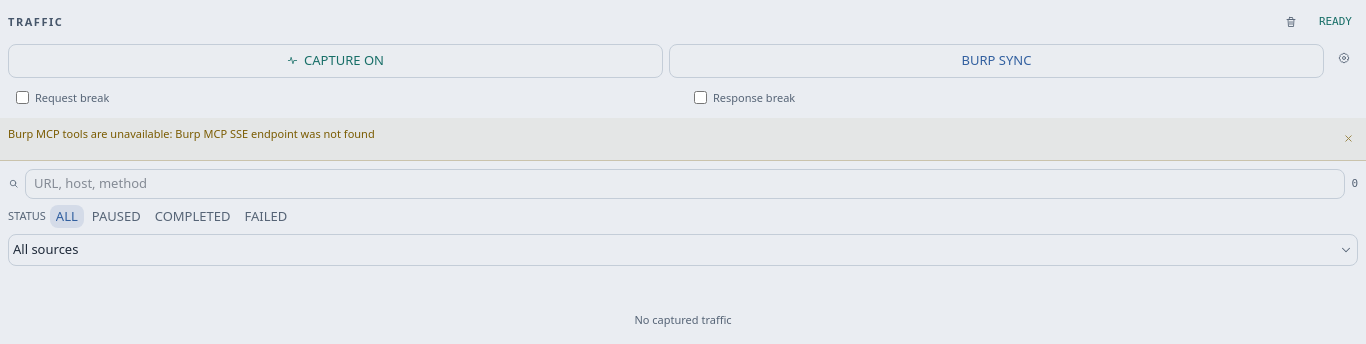
TrafficSidebar › shows MCP degradation without treating Bridge mirroring as a capture failure
Expected: the text "Burp MCP tools are unavailable" is shown, [8, 126, 375, 141]
Expected: the button "CAPTURE ON" is enabled, [8, 44, 663, 78]
What coordinates should you click on to do the following:
click the button named "Dismiss notice"
I would click on:
 (1348, 138)
Its box is [1334, 124, 1362, 152].
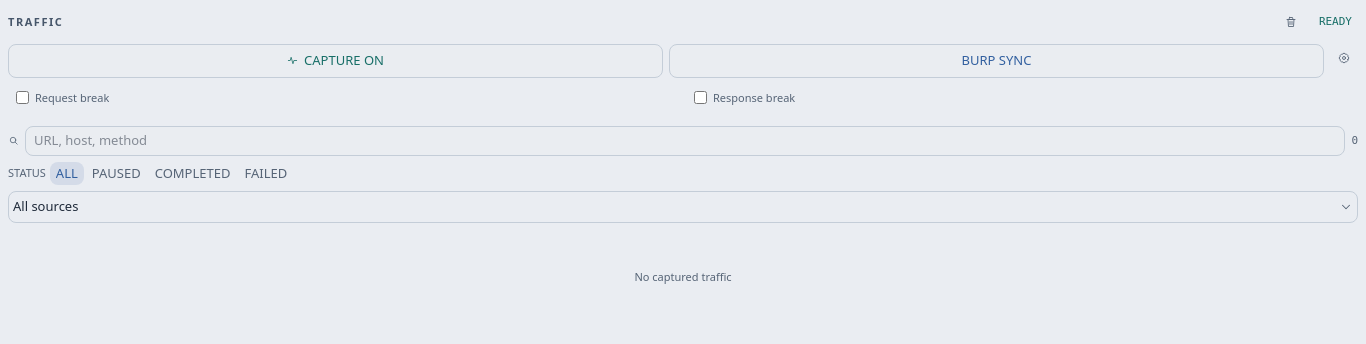
Expected: the button "CAPTURE ON" is enabled, [8, 44, 663, 78]
Result: the text "Burp MCP tools are unavailable" is gone
